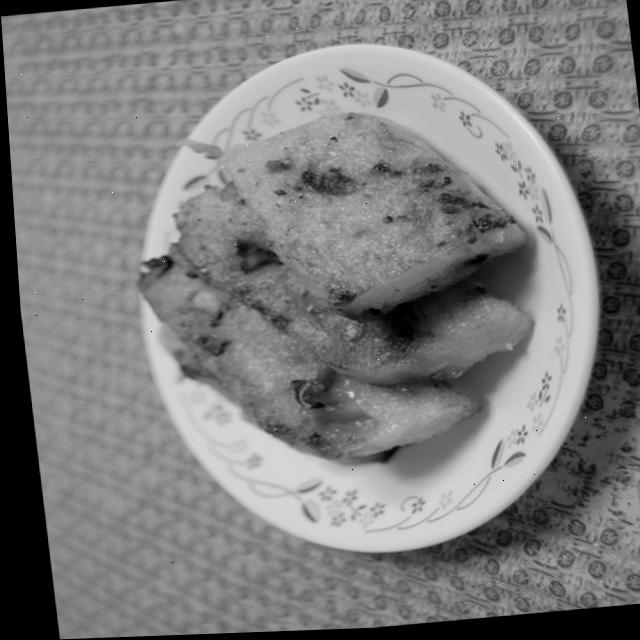蛋糕甜品: (50, 25, 633, 590)
